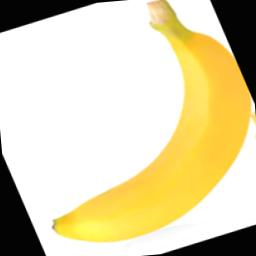Banana Ripe: (29, 0, 256, 256)
